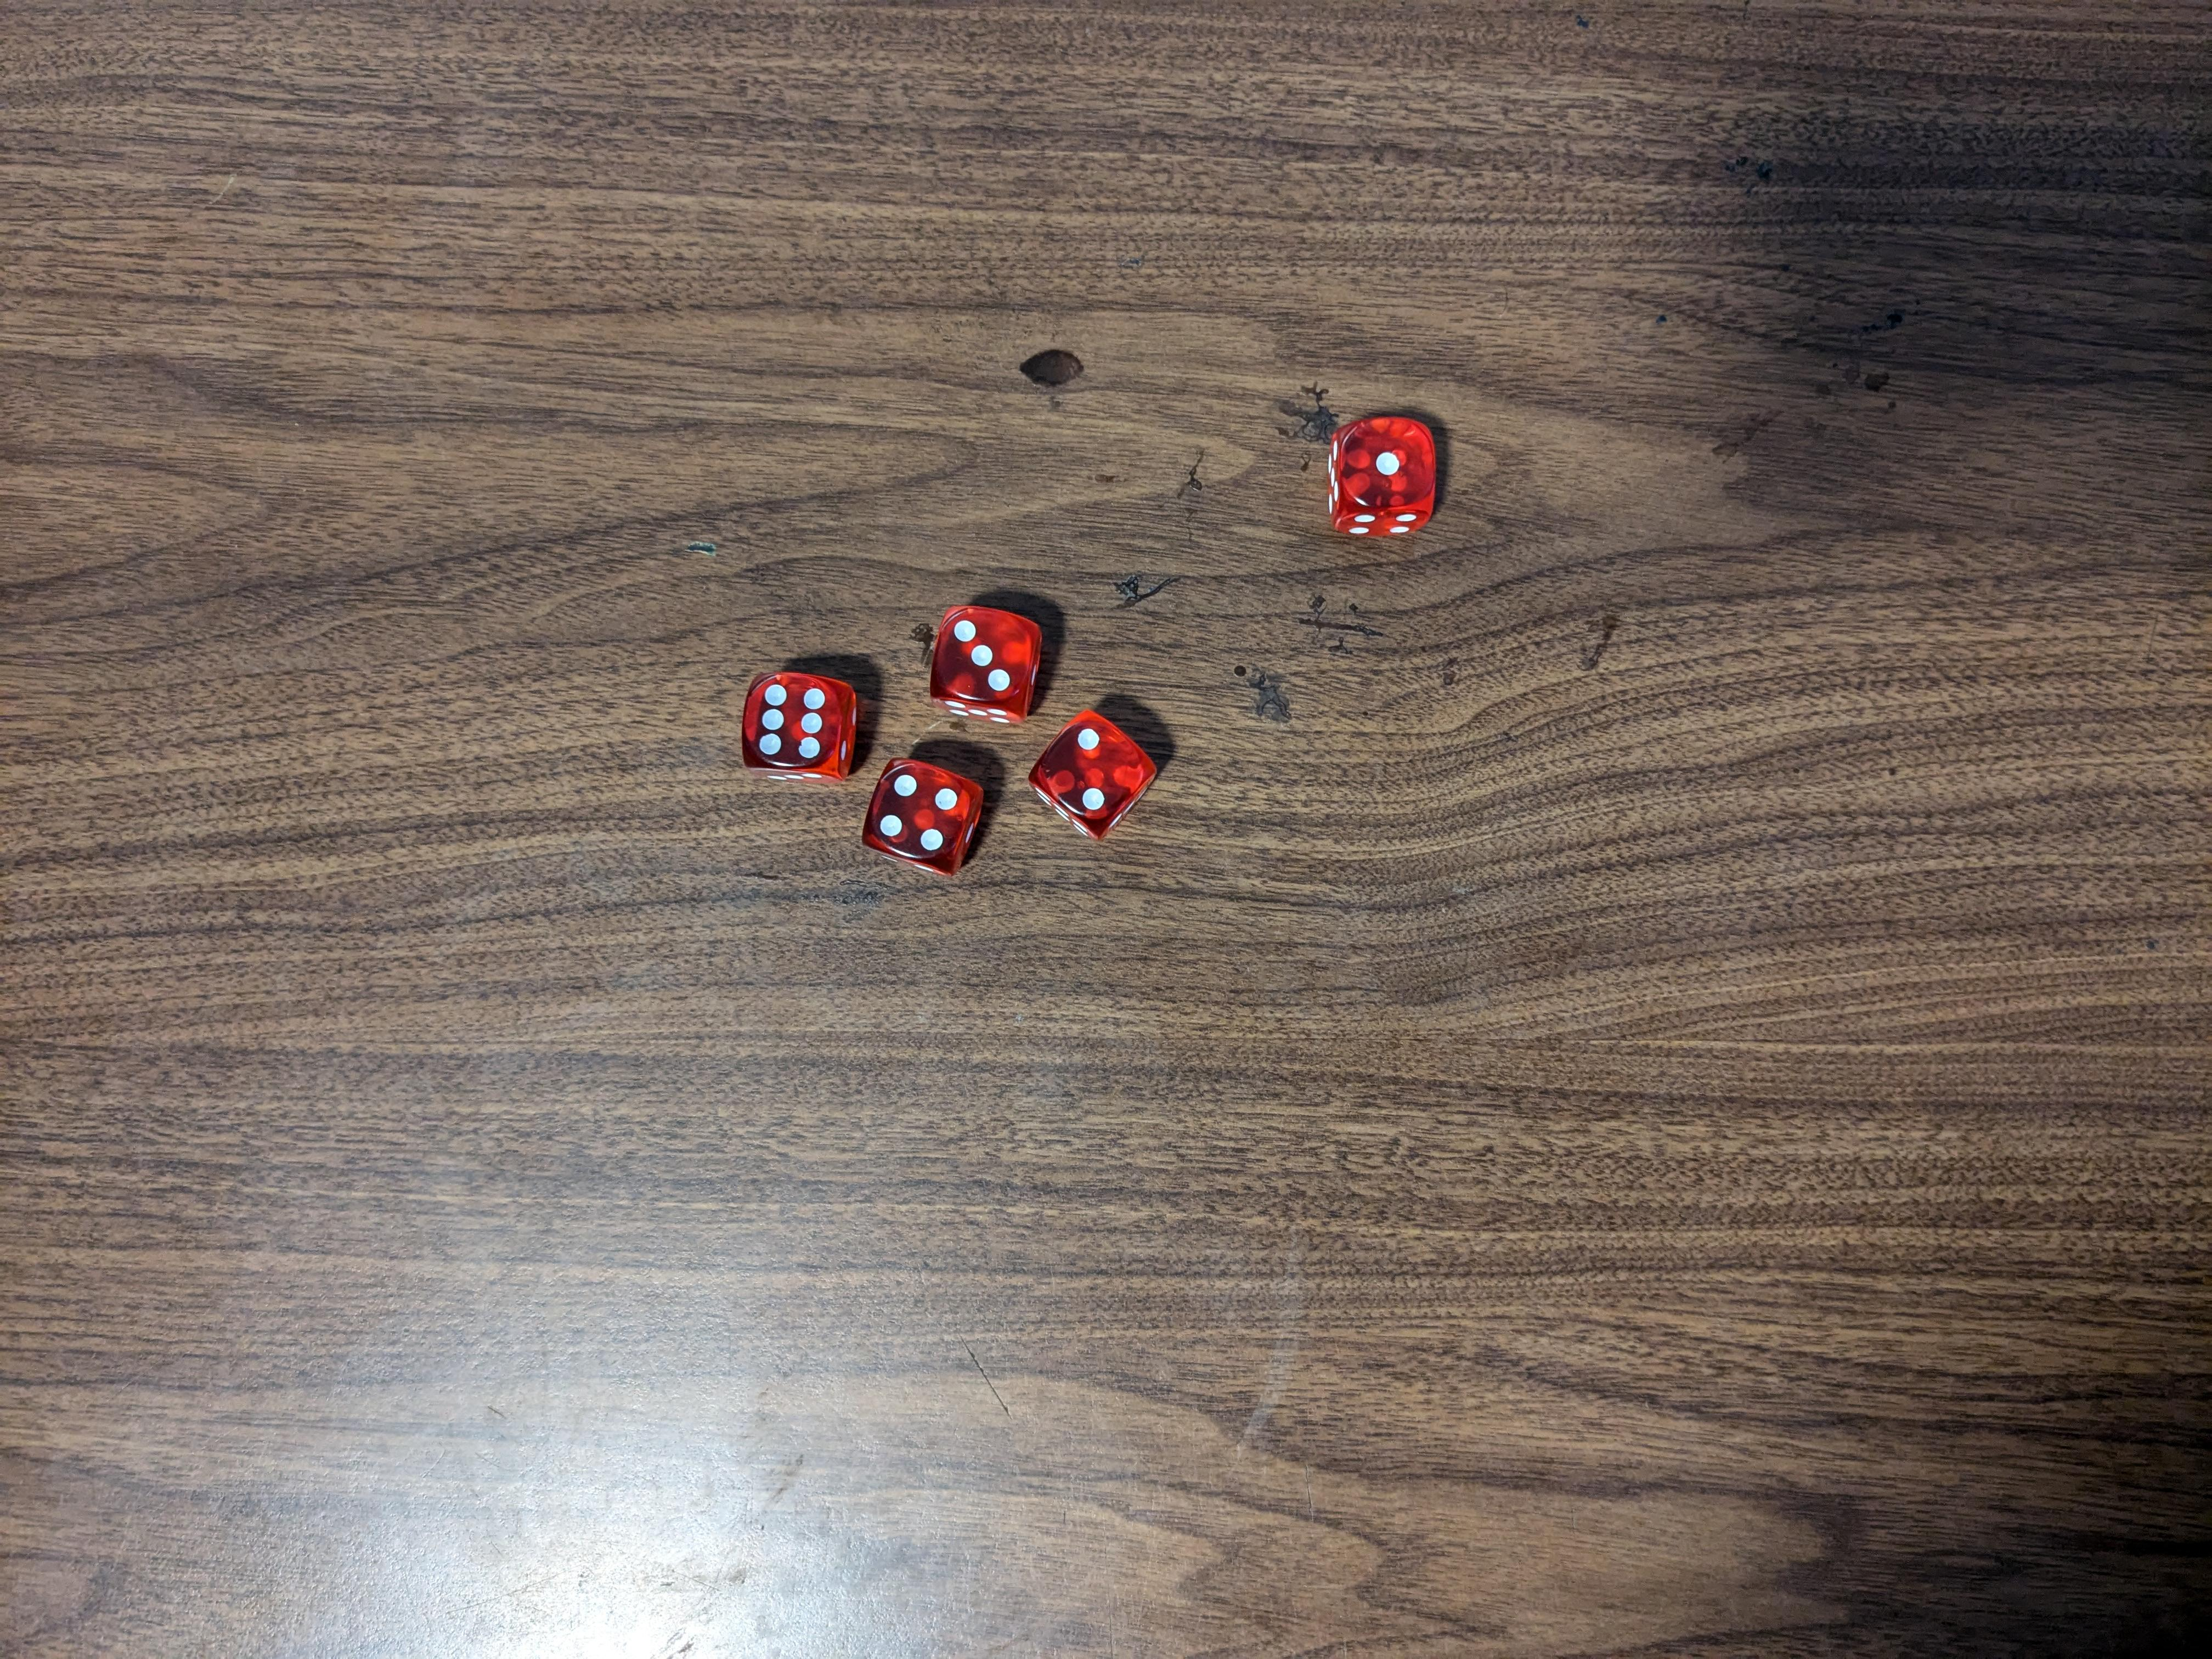four: (859, 762, 986, 875)
one: (1324, 411, 1444, 540)
six: (740, 667, 857, 784)
three: (925, 601, 1047, 727)
two: (1031, 709, 1158, 842)
